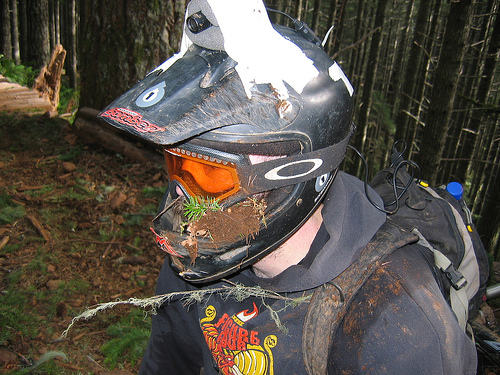helmet: (148, 24, 355, 248)
